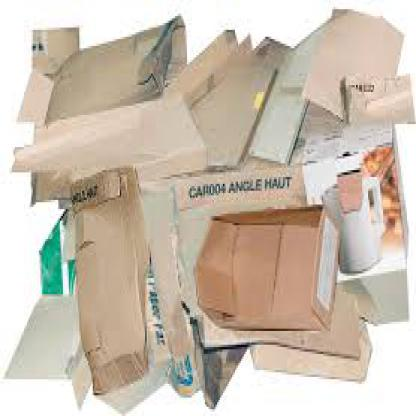CARDBOARD: (174, 159, 380, 356), (63, 163, 175, 414), (301, 119, 408, 322), (193, 202, 340, 329), (10, 80, 204, 172), (30, 106, 205, 204), (45, 14, 184, 122), (142, 184, 199, 397), (294, 5, 402, 117), (241, 18, 317, 158), (3, 292, 90, 404), (168, 27, 235, 161), (229, 30, 290, 161), (159, 161, 305, 211), (249, 324, 371, 379), (16, 25, 78, 122), (190, 315, 248, 407), (342, 74, 414, 120), (37, 207, 75, 294), (294, 101, 340, 136), (238, 32, 251, 51)
